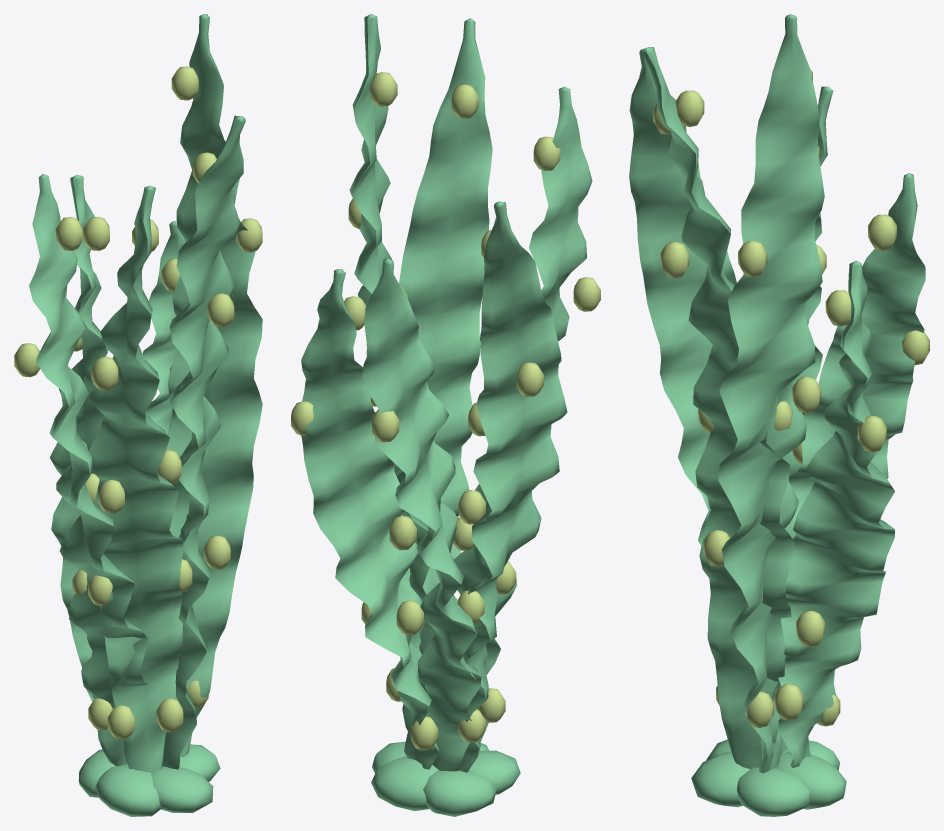
Rendered from SharkBaitKelp.glb.
The picture shows the model from 3 angles, left to right: view 1: azimuth 30°, elevation 25°; view 2: azimuth 150°, elevation 25°; view 3: azimuth 270°, elevation 25°; orthographic projection. The views are drawn at different scales.
Parts seen in each view (by area): view 1: Kelp, Bulbs; view 2: Kelp, Bulbs; view 3: Kelp, Bulbs.
Part boxes in pixels (left/top/right/bottom): Kelp: left=29, top=14, right=262, bottom=816; Bulbs: left=14, top=66, right=262, bottom=739; Kelp: left=301, top=14, right=592, bottom=816; Bulbs: left=291, top=72, right=600, bottom=750; Kelp: left=629, top=14, right=925, bottom=816; Bulbs: left=653, top=68, right=929, bottom=727.
Bounding box in the file's own units: 3.59 × 12 × 4.01.
